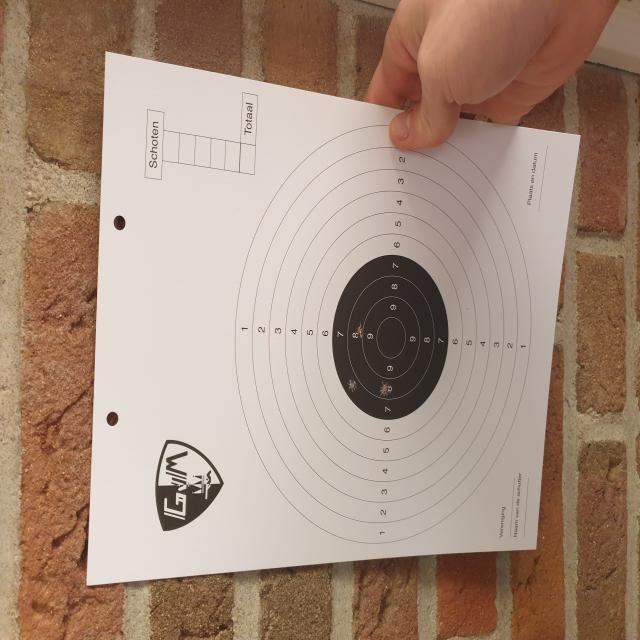7: (347, 379, 357, 393)
8: (379, 381, 391, 396)
9: (355, 322, 366, 339)
Target: (234, 129, 532, 545)
black_contour: (332, 255, 449, 420)
